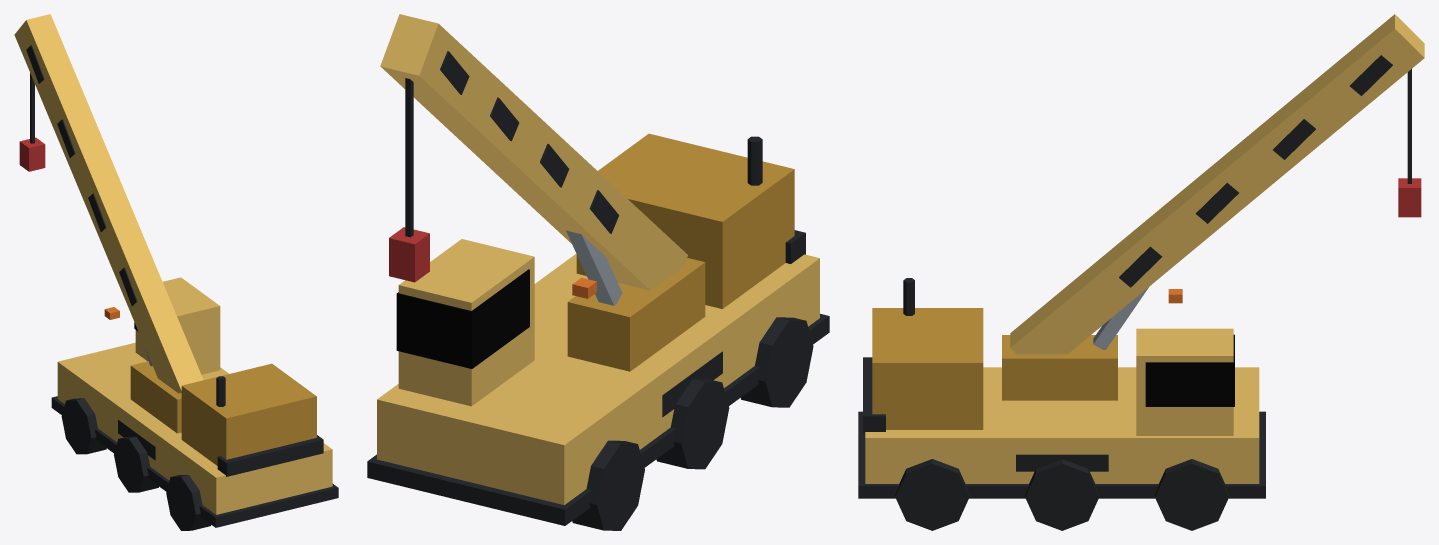
The model's file is veh_carrier_crash_crane.fbx.
3 views of the same model, side by side, from view 1: azimuth 30°, elevation 25°; view 2: azimuth 150°, elevation 25°; view 3: azimuth 270°, elevation 25° (orthographic). The views are drawn at different scales.
Visible parts, largest first — view 1: veh_carrier_crash_crane; view 2: veh_carrier_crash_crane; view 3: veh_carrier_crash_crane.
Part boxes in pixels (<box>): veh_carrier_crash_crane: <box>14,14,338,530</box>; veh_carrier_crash_crane: <box>367,14,829,530</box>; veh_carrier_crash_crane: <box>858,14,1424,530</box>.
Size of the model in its own units: 820 by 2170 by 2444.
